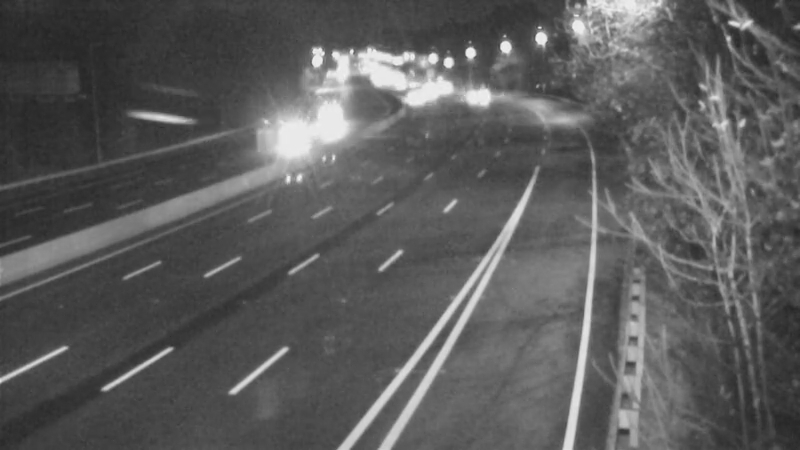vehicle: (391, 76, 441, 126), (439, 71, 489, 121), (259, 121, 309, 171), (301, 90, 351, 140)
